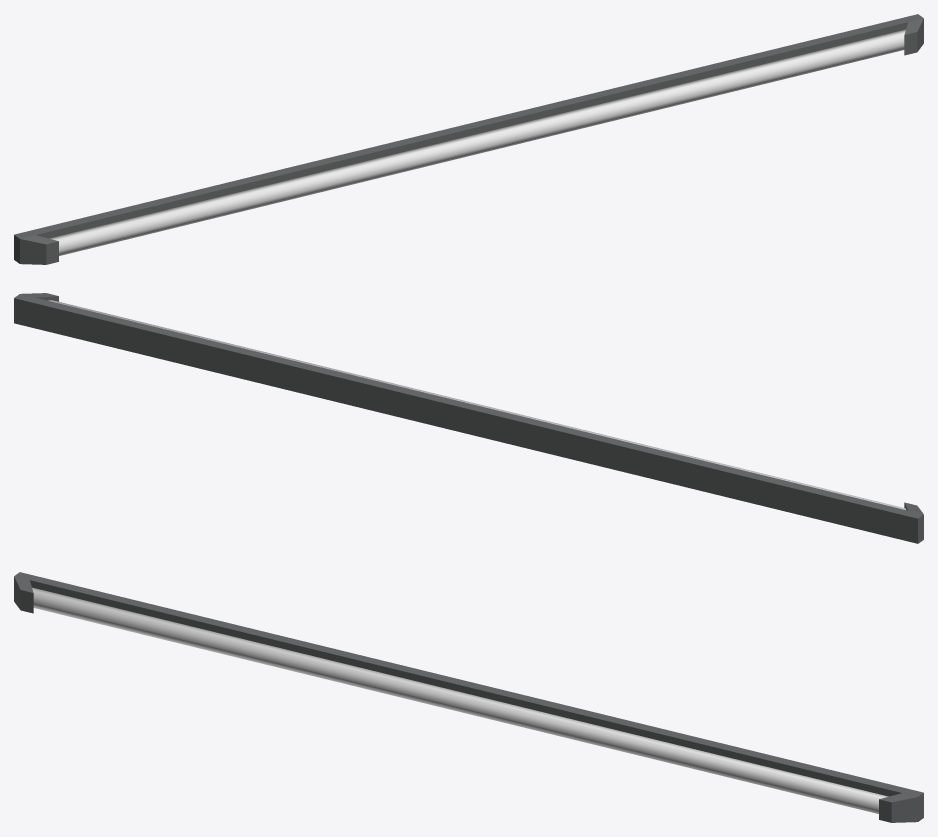
File: Tube light 1.fbx
3 renders of one model, top to bottom at view 1: azimuth 30°, elevation 25°; view 2: azimuth 150°, elevation 25°; view 3: azimuth 330°, elevation 25°, orthographic.
Visible parts, largest first — view 1: Tube light; view 2: Tube light; view 3: Tube light.
Boxes of the visible parts, left/top/right/bottom form: Tube light: left=14, top=14, right=923, bottom=264; Tube light: left=14, top=293, right=923, bottom=543; Tube light: left=14, top=572, right=923, bottom=822.
Size of the model in its own units: 303 by 8.06 by 9.13.
